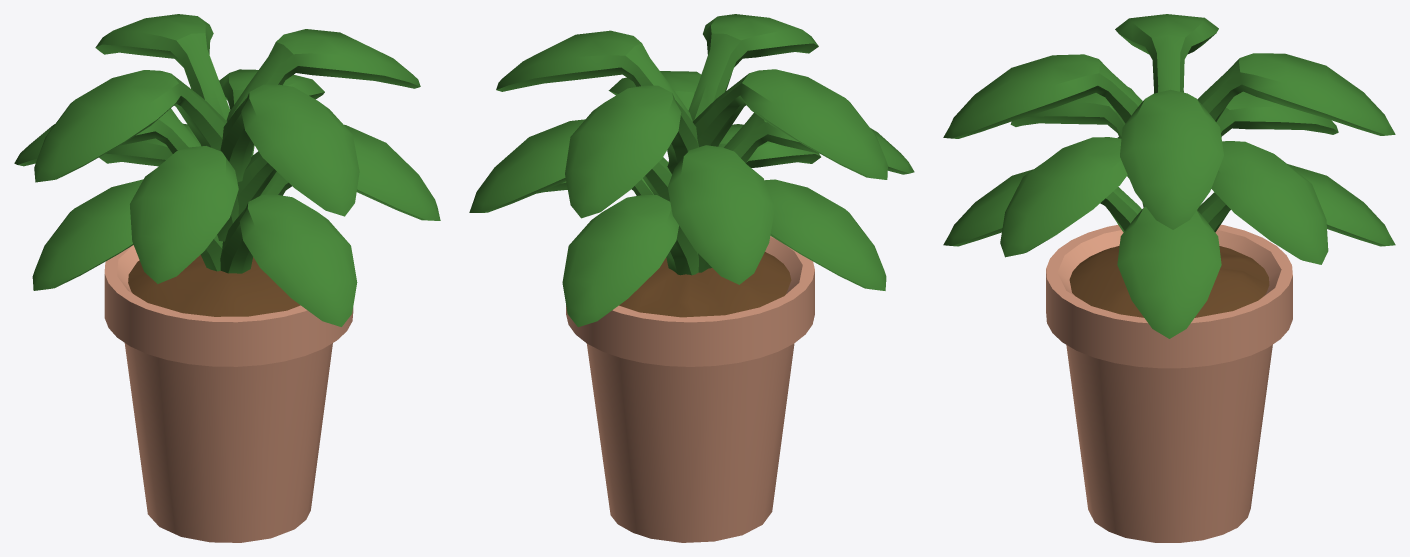
File: Planta.fbx
3 renders of one model, left to right at view 1: azimuth 30°, elevation 25°; view 2: azimuth 150°, elevation 25°; view 3: azimuth 270°, elevation 25°, orthographic.
Parts seen in each view (by area): view 1: planta; view 2: planta; view 3: planta.
Boxes of the visible parts, x1,y1,x2,y2 form: planta: (14,14,440,542); planta: (469,14,914,542); planta: (943,14,1395,542).
Bounding box in the file's own units: 133 × 148 × 135.
